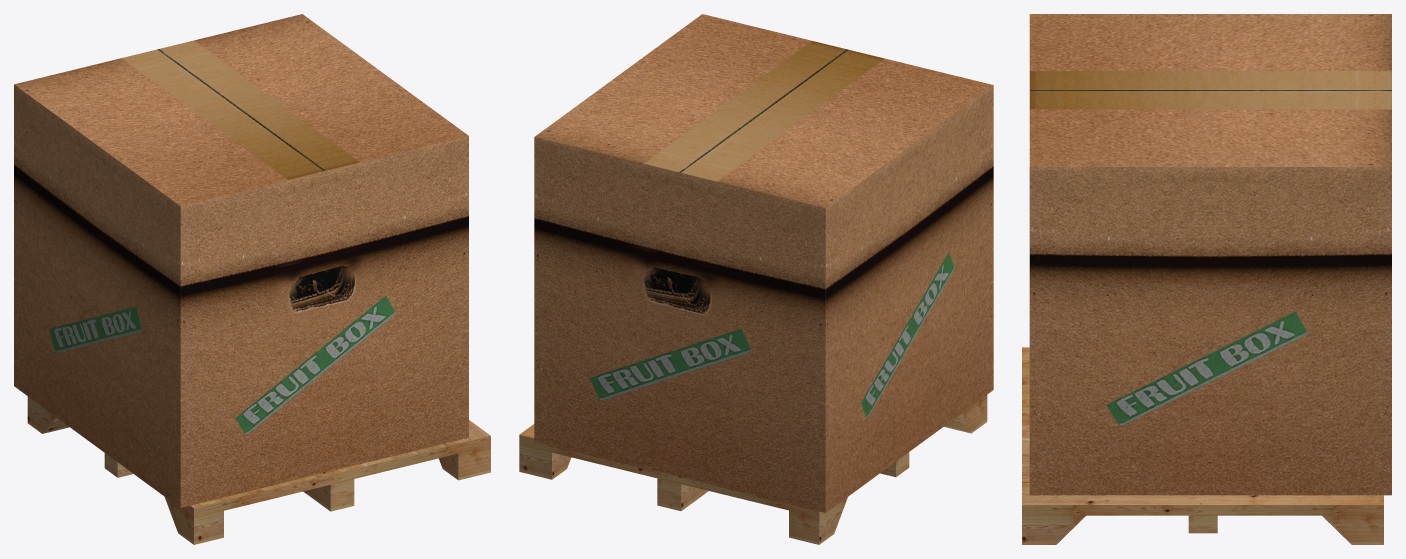
File: warehouseBox.glb
3 views of the same model, side by side, from view 1: azimuth 30°, elevation 25°; view 2: azimuth 150°, elevation 25°; view 3: azimuth 270°, elevation 25° (orthographic). The views are drawn at different scales.
Parts seen in each view (by area): view 1: Cardboard_box03__1__45, BigShelvesWoodBox__1__27; view 2: Cardboard_box03__1__45, BigShelvesWoodBox__1__27; view 3: Cardboard_box03__1__45, BigShelvesWoodBox__1__27.
Part boxes in pixels (x1,y1,x2,y2): Cardboard_box03__1__45: [14, 14, 468, 507]; BigShelvesWoodBox__1__27: [27, 396, 490, 544]; Cardboard_box03__1__45: [534, 14, 993, 512]; BigShelvesWoodBox__1__27: [519, 395, 987, 544]; Cardboard_box03__1__45: [1029, 14, 1391, 495]; BigShelvesWoodBox__1__27: [1022, 347, 1383, 544].
Bounding box in the file's own units: 1.08 × 1.14 × 1.04.
2 materials, 2 textured.
